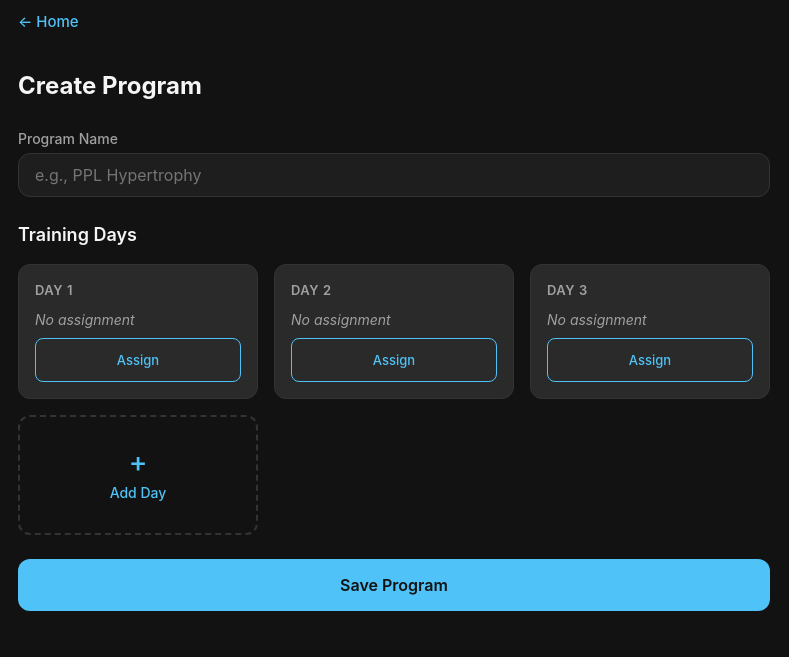
Test: CreateProgramPage › shows validation error when saving with zero assignments (Req 3.14)
Enter a program name but don't assign anything
Type "My Program" into the field with test id "program-name-input" at (394, 175), box [18,153,770,197]
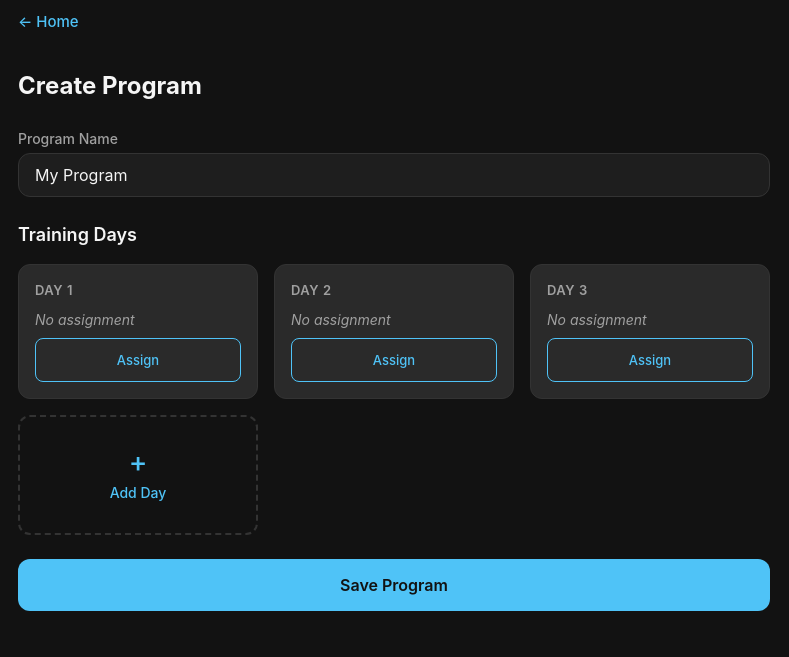
Click the button with test id "save-program-button" at (394, 584), box [18,558,770,610]
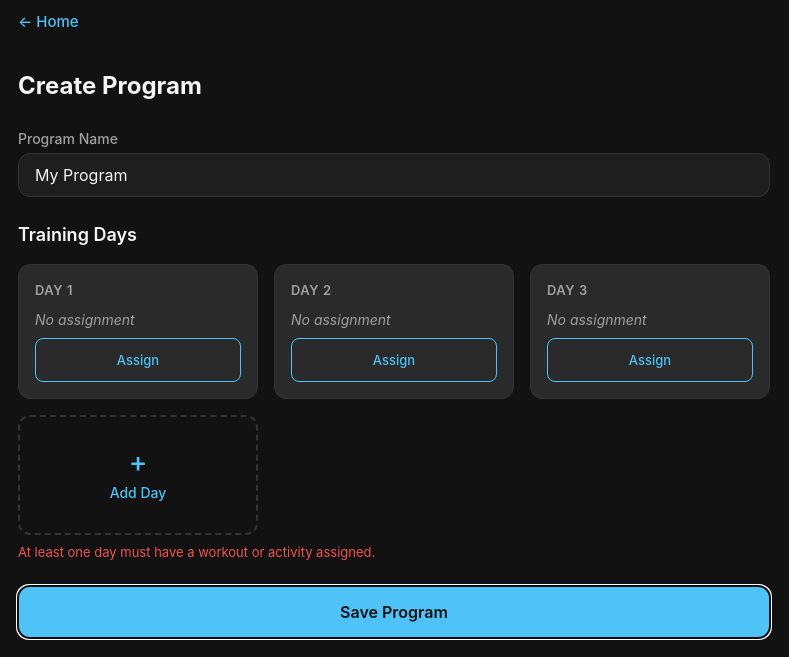
Result: the message with test id "days-assignment-error" reads "At least one day must have a workout or activity assigned." at [18,544,375,560]
